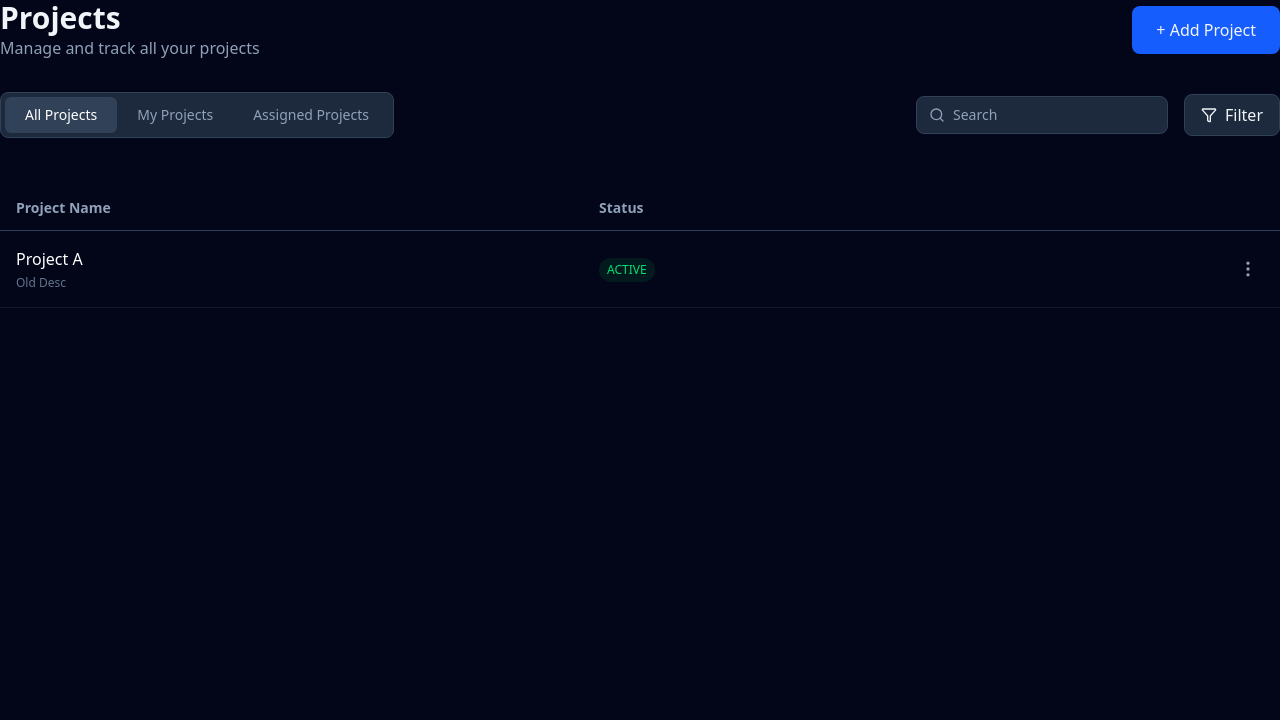
Test case: Projects Advanced Tests › should open edit form with project data
Step 1. Click the 6th button → (1248,269), box left=1232, top=253, right=1264, bottom=285
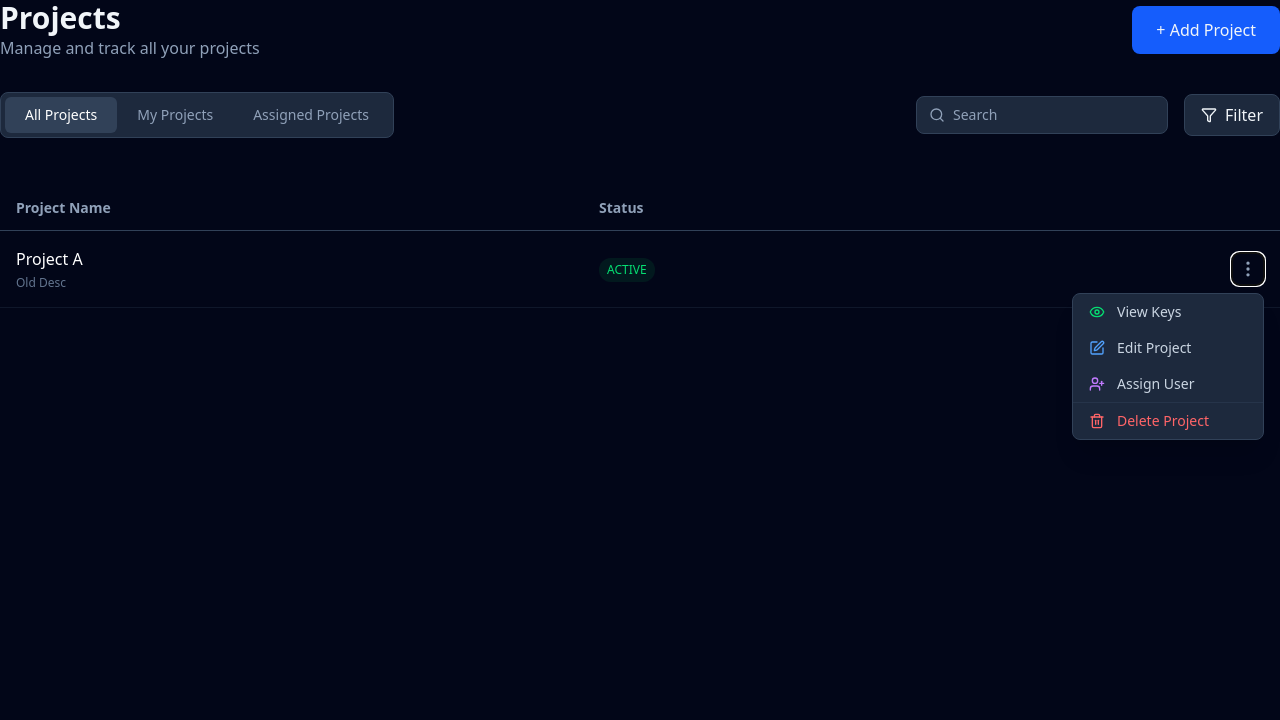
Step 2. Click the button "Edit Project" → (1168,348), box left=1073, top=330, right=1263, bottom=366
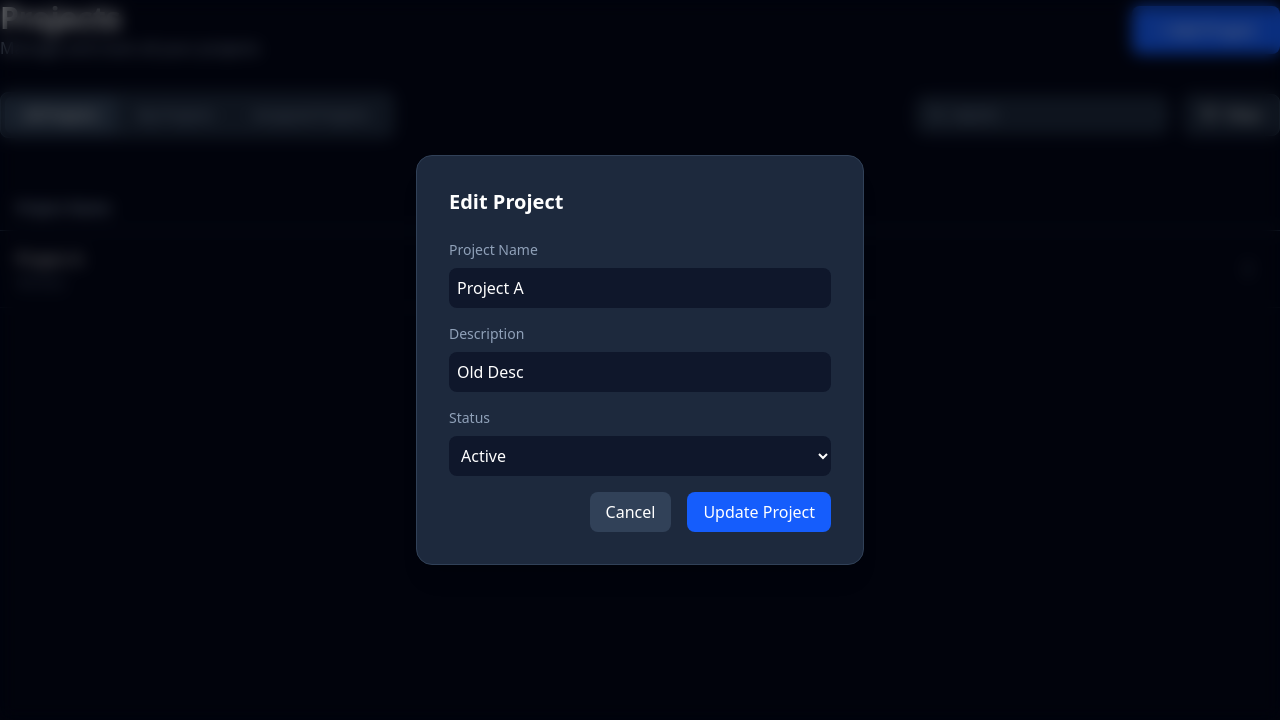
Result: the 1st field showing "Project A" is shown at left=449, top=268, right=831, bottom=308
Result: the field showing "Old Desc" below "Description" is shown at left=449, top=352, right=831, bottom=392
